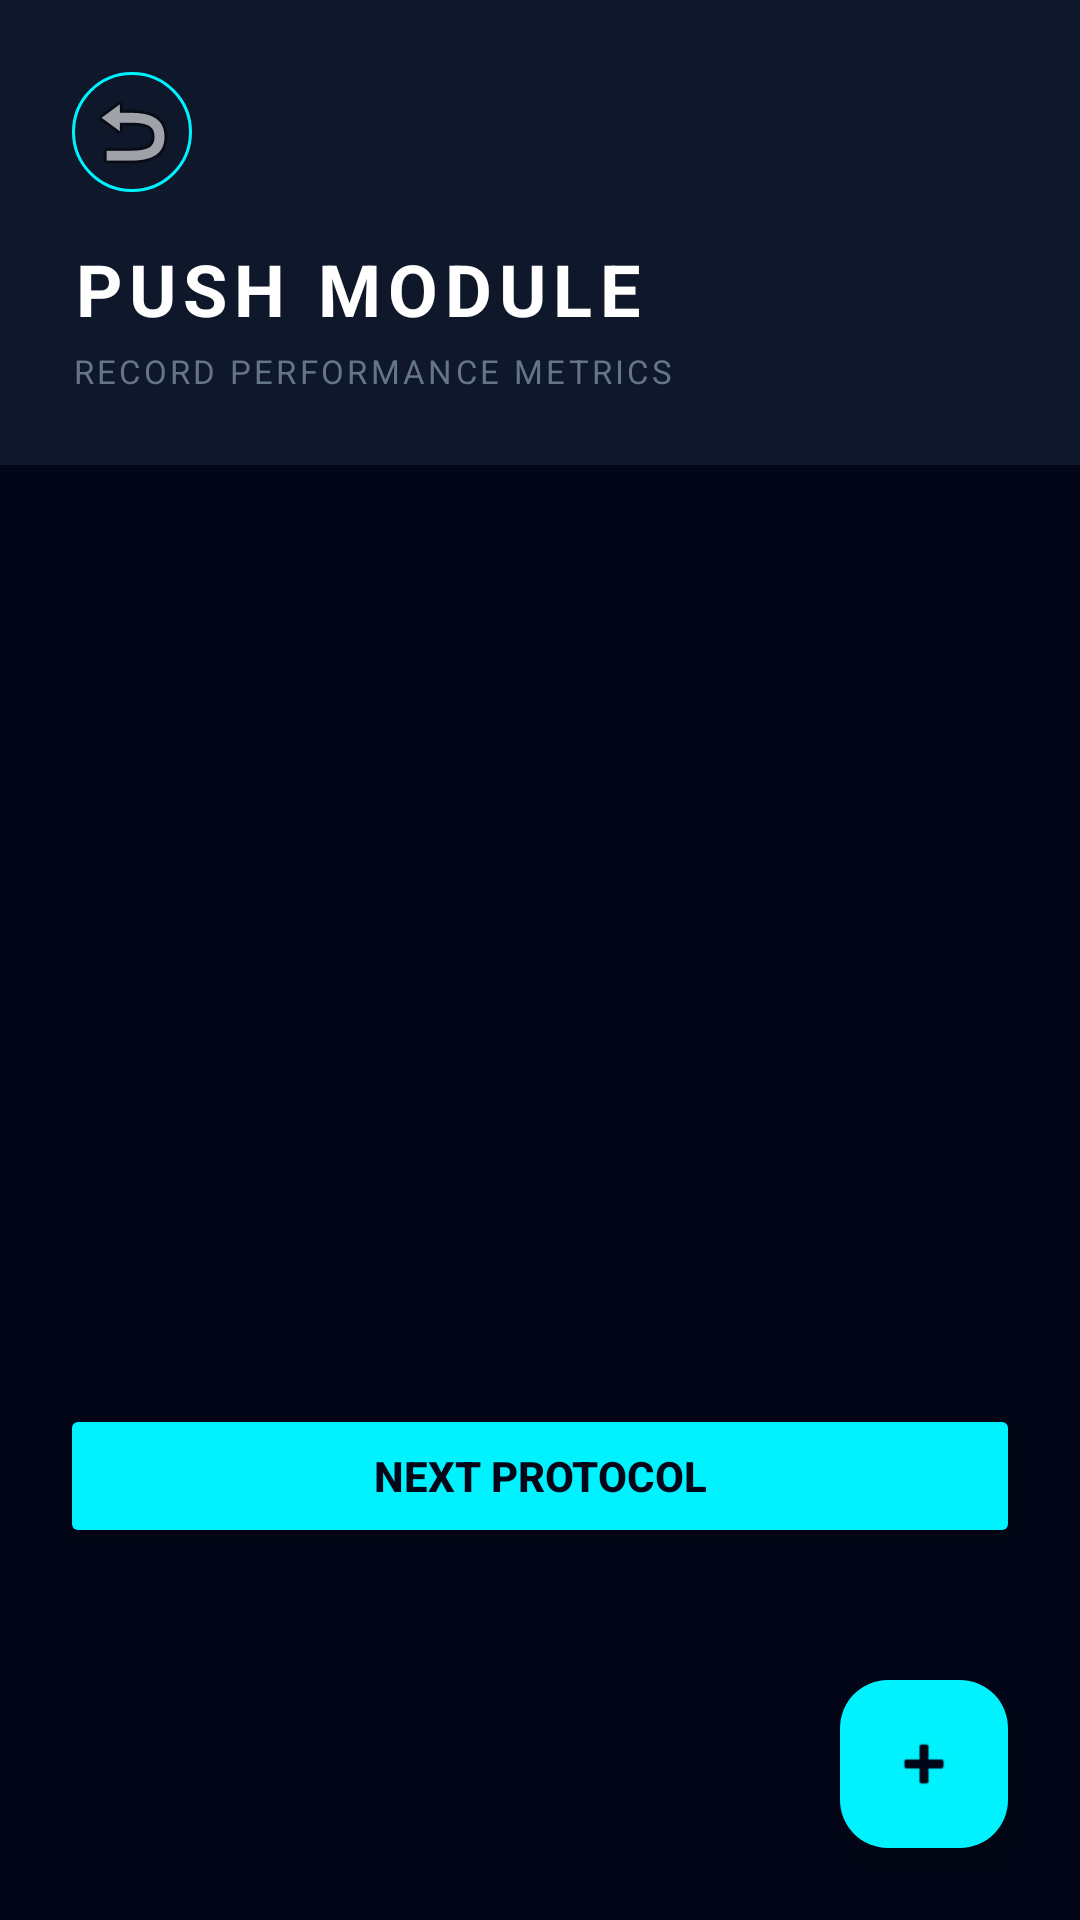

Named icons in this screenshot (1080px x 1920px) and their bounding boxes, (x1, y1, x2, y2):
add: (840, 1680, 1008, 1848)
Back: (72, 72, 192, 192)
